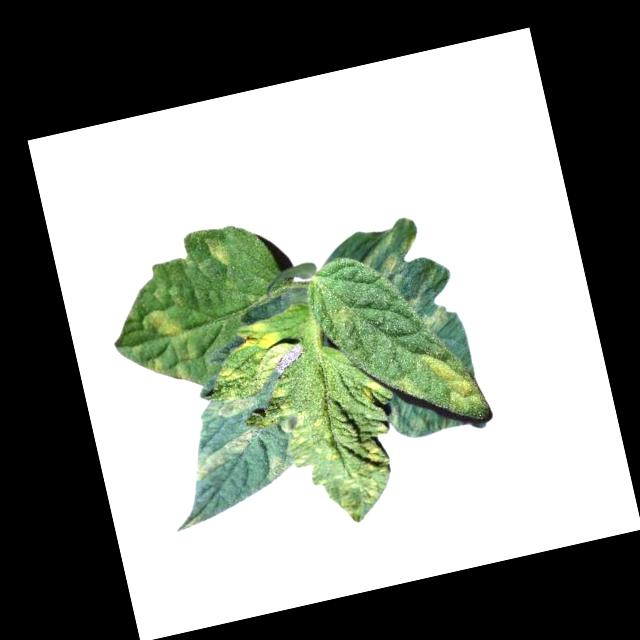Leaf_Mold: (281, 395, 411, 534), (415, 339, 489, 424), (133, 302, 201, 387), (354, 215, 427, 290), (185, 426, 265, 482), (228, 315, 290, 359), (199, 388, 265, 425), (205, 233, 234, 273), (420, 305, 458, 334), (264, 456, 295, 487), (360, 377, 387, 406)
